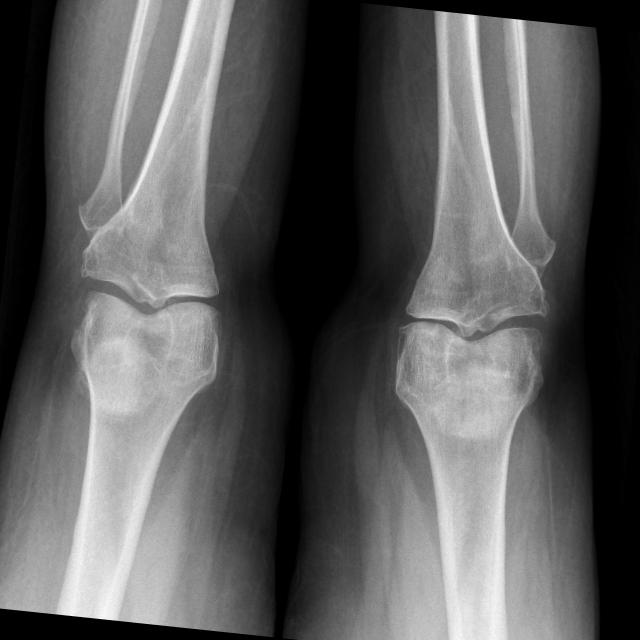Knee: (391, 252, 558, 393), (70, 233, 234, 371)
